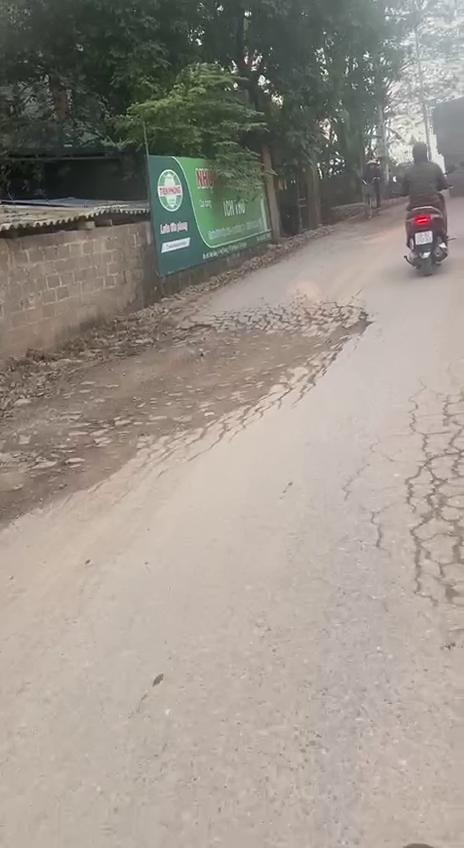pothole: (0, 306, 364, 466)
